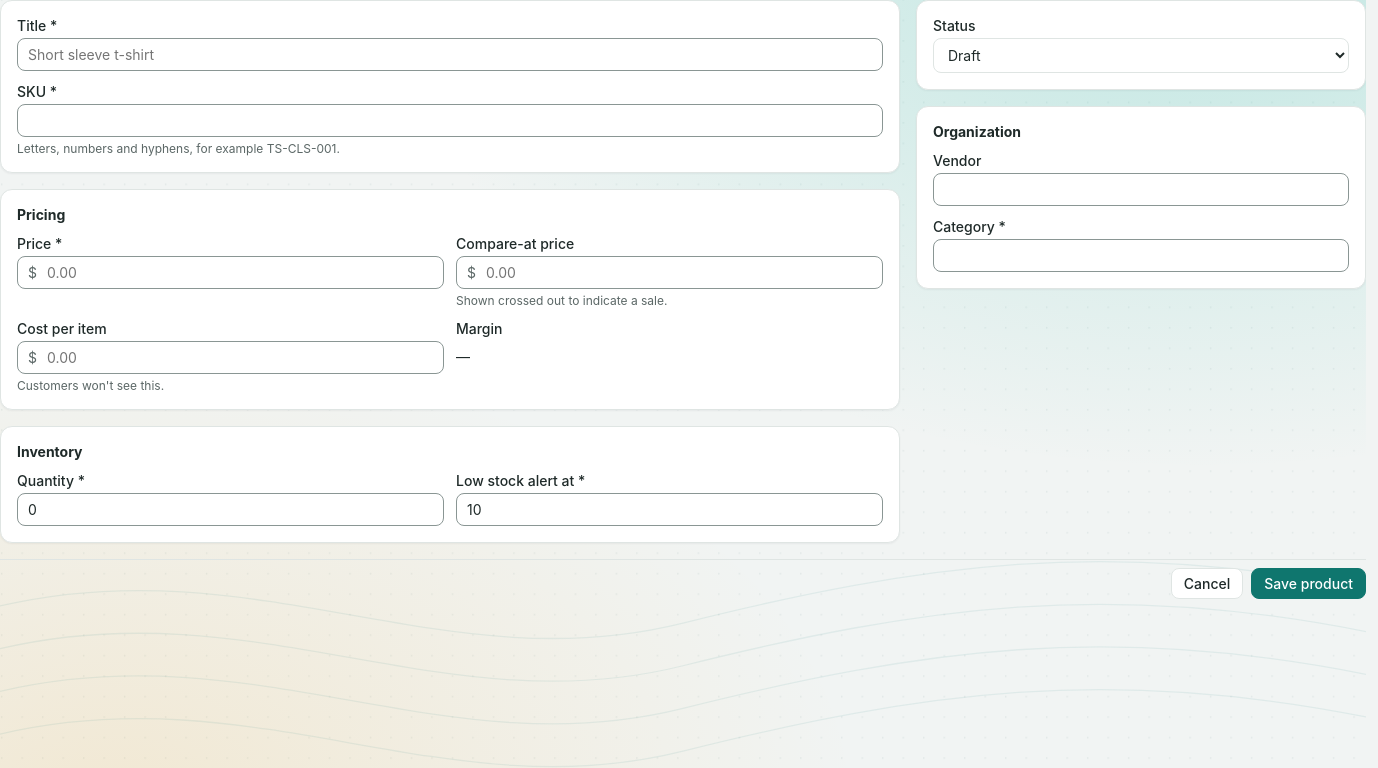
Test: ProductForm › shows errors and does not submit an empty form
The image size is (1378, 768).
Click the button "Save product".
click(1309, 584)  # box [1251,568,1366,599]
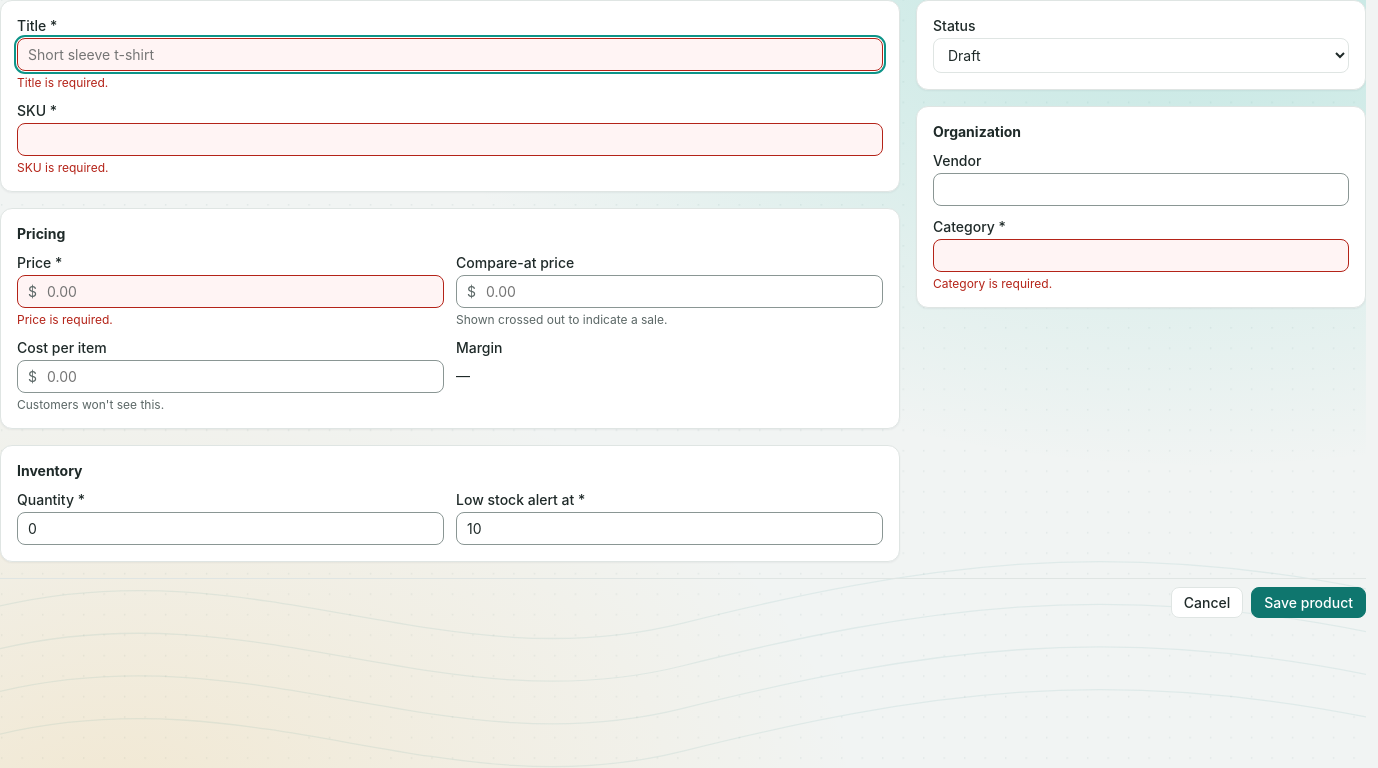
Check: the text "Title is required." is shown, box [17,75,108,90]
Check: the text "SKU is required." is shown, box [17,160,108,175]
Check: the text "Price is required." is shown, box [17,312,113,327]
